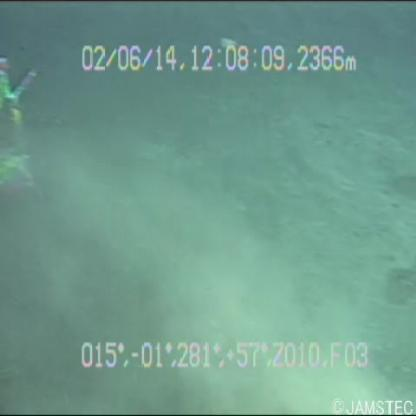Rác: (1, 35, 48, 207)
